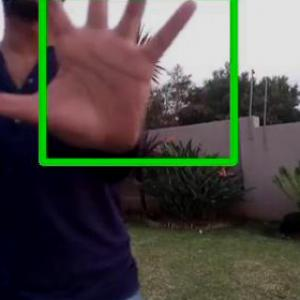follow_hand: (1, 0, 203, 162)
